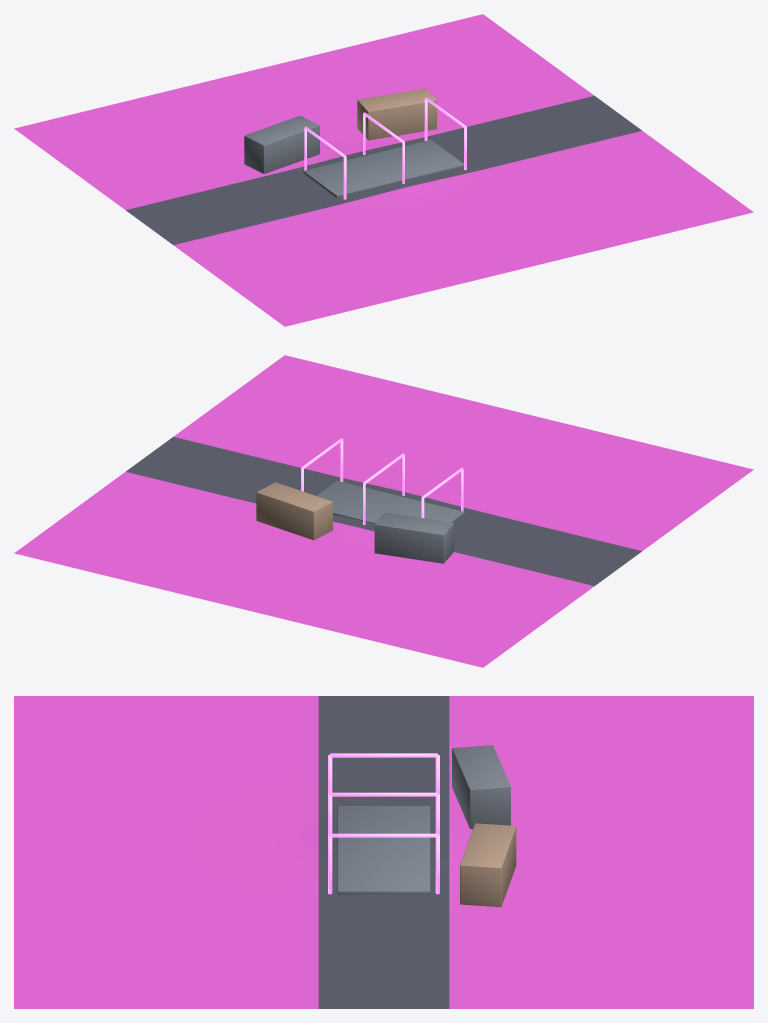
The model's file is chapter_05_nightcity.glb.
3 renders of one model, top to bottom at view 1: azimuth 30°, elevation 25°; view 2: azimuth 150°, elevation 25°; view 3: azimuth 270°, elevation 25°, orthographic. The views are drawn at different scales.
Parts seen in each view (by area): view 1: Chapter_Environment; view 2: Chapter_Environment; view 3: Chapter_Environment.
Part boxes in pixels (<box>): Chapter_Environment: <box>14,14,753,326</box>; Chapter_Environment: <box>14,355,753,667</box>; Chapter_Environment: <box>14,696,753,1008</box>.
Size of the model in its own units: 44 by 3.94 by 44.
